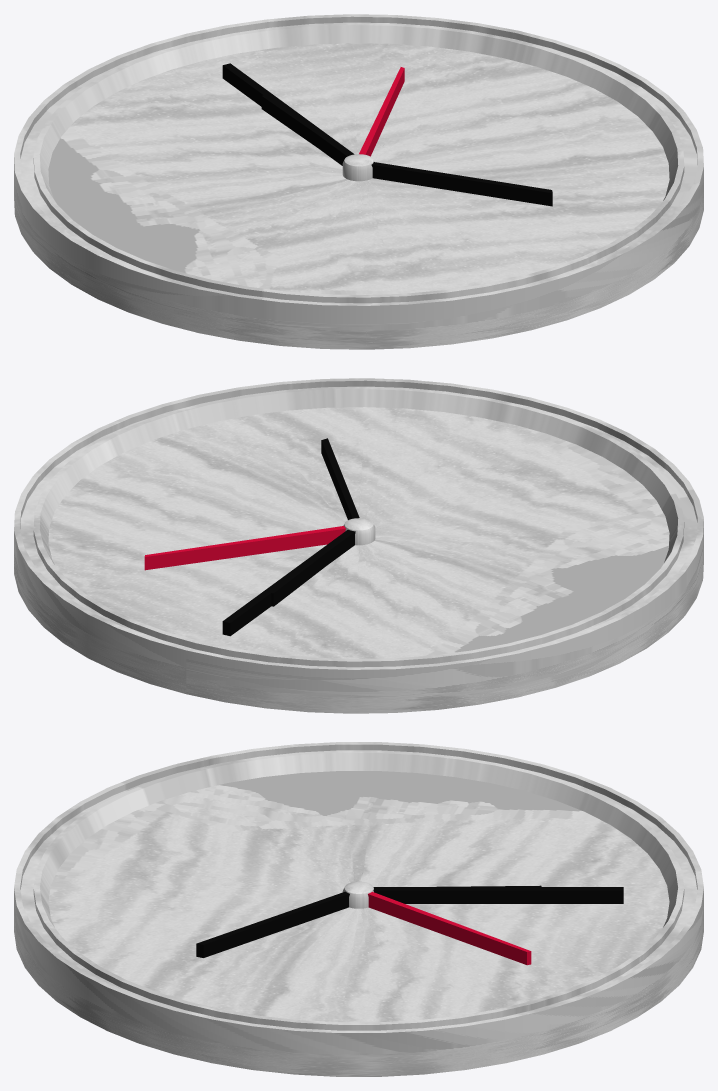
The model's file is clock_mat.fbx.
3 views of the same model, one above another, from view 1: azimuth 30°, elevation 25°; view 2: azimuth 150°, elevation 25°; view 3: azimuth 270°, elevation 25° (orthographic).
Parts seen in each view (by area): view 1: Clock, 1.Seconds, 2.minutes; view 2: Clock, 1.Seconds, 2.minutes; view 3: Clock, 1.Seconds, 2.minutes, 3.Hour.
Boxes of the visible parts, x1,y1,x2,y2 form: Clock: [14, 14, 703, 349]; 1.Seconds: [261, 67, 552, 206]; 2.minutes: [222, 63, 354, 164]; Clock: [14, 378, 703, 713]; 1.Seconds: [144, 438, 359, 606]; 2.minutes: [222, 529, 355, 636]; Clock: [14, 742, 703, 1076]; 1.Seconds: [196, 885, 541, 965]; 2.minutes: [373, 887, 623, 903]; 3.Hour: [373, 888, 541, 903].
Bounding box in the file's own units: 200 × 14.42 × 200.
